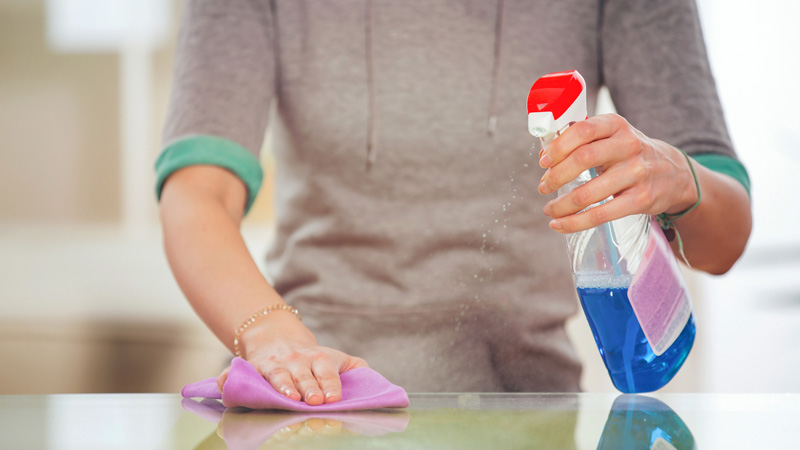Cleaning_solution: (527, 68, 698, 396)
